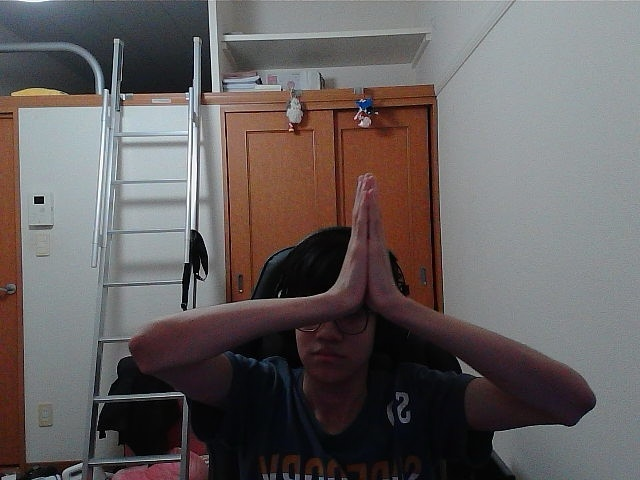pray: (347, 192, 363, 294)
